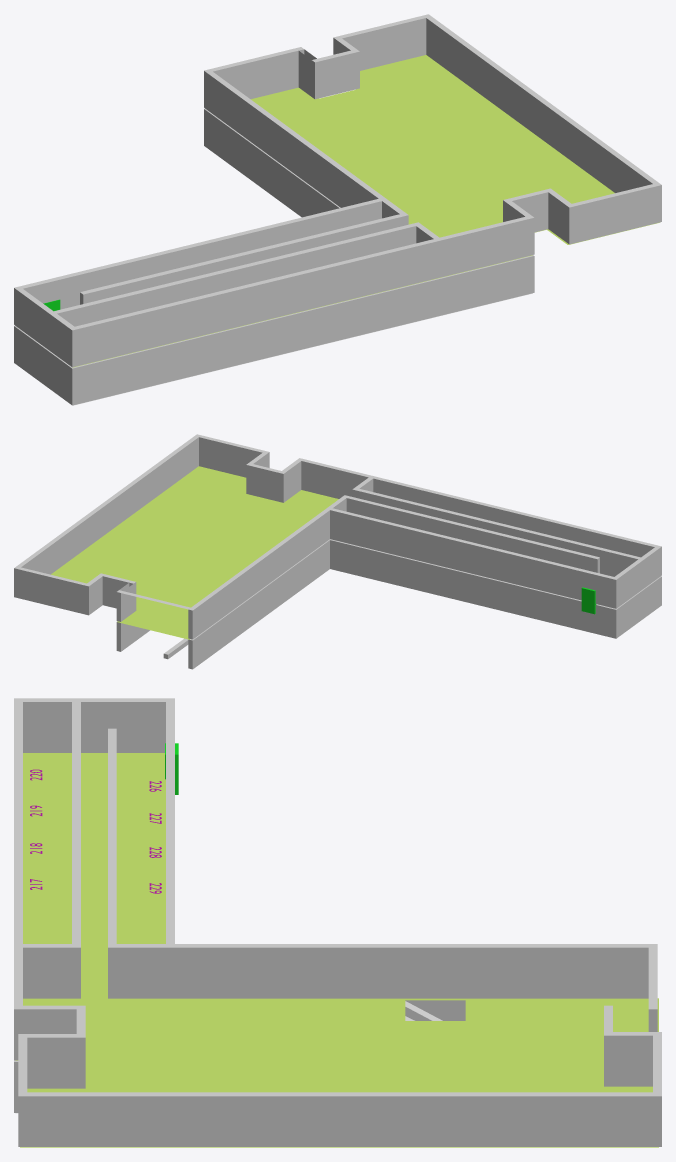
The picture shows the model from 3 angles, top to bottom: view 1: azimuth 30°, elevation 25°; view 2: azimuth 150°, elevation 25°; view 3: azimuth 270°, elevation 25°; orthographic projection. The views are drawn at different scales.
Visible parts, largest first — view 1: Outer walls.001, Floor.001, Outer walls; view 2: Outer walls.001, Floor.001, Outer walls, LeftExit; view 3: Outer walls.001, Floor.001, Outer walls.
Boxes of the visible parts, x1=… form: Outer walls.001: x1=14, y1=14, x2=661, y2=367; Floor.001: x1=73, y1=55, x2=659, y2=367; Outer walls: x1=14, y1=108, x2=534, y2=405; Outer walls.001: x1=14, y1=434, x2=661, y2=639; Floor.001: x1=51, y1=466, x2=338, y2=639; Outer walls: x1=116, y1=539, x2=661, y2=669; LeftExit: x1=581, y1=587, x2=596, y2=614; Outer walls.001: x1=14, y1=698, x2=661, y2=1146; Floor.001: x1=15, y1=753, x2=658, y2=1147; Outer walls: x1=14, y1=1000, x2=465, y2=1112.
Size of the model in its own units: 211 by 29.75 by 145.
